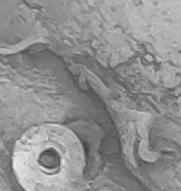crack: (1, 0, 181, 191)
